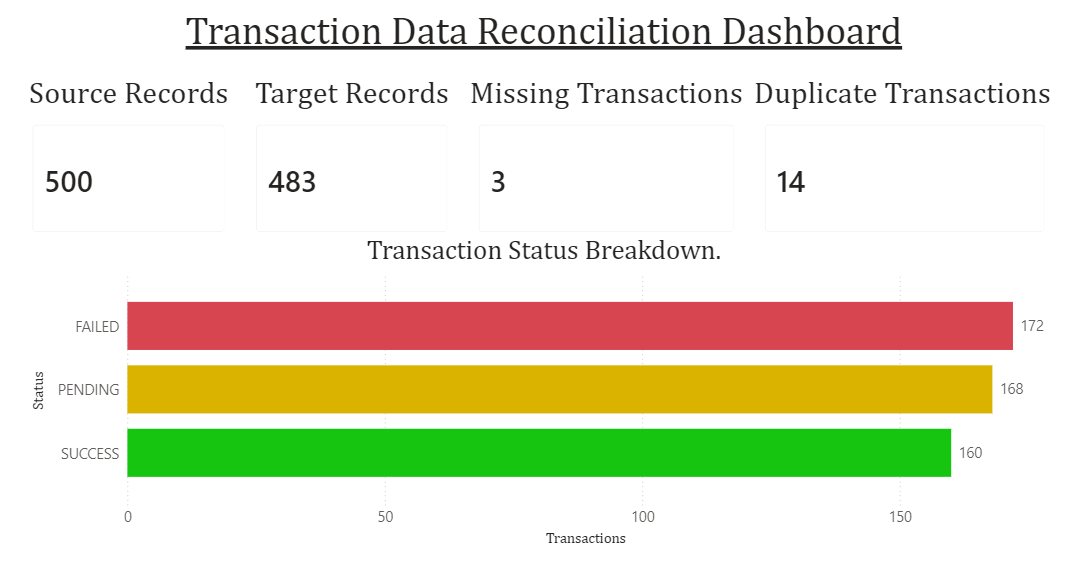

What the dashboard file says about the page in this screenshot:
{"tool":"powerbi","page":{"name":"Page 1","canvas":[1280,720],"ordinal":0},"visuals":[{"type":"cardVisual","title":"Source Records","fields":{"Data":["Count(source_transactions.transaction_id)"]},"box":[27.4,112.5,245.6,192.1],"z":0},{"type":"cardVisual","title":"Target Records","fields":{"Data":["Count(target_transactions.transaction_id)"]},"box":[273.1,112.5,244.3,192.1],"z":1},{"type":"cardVisual","title":"Missing Transactions","fields":{"Data":["source_transactions.Missing Records"]},"box":[517.3,112.5,314.2,192.1],"z":2},{"type":"cardVisual","title":"Duplicate Transactions","fields":{"Data":["source_transactions.Duplicate Records"]},"box":[831.6,112.5,341.7,192.1],"z":3},{"type":"clusteredBarChart","title":"Transaction Status Breakdown.","fields":{"Category":["source_transactions.status"],"Y":["CountNonNull(source_transactions.transaction_id)"]},"box":[38.4,288.2,1134.8,348.5],"z":4},{"type":"textbox","box":[38.4,34.3,1134.8,78.2],"z":5}]}

Visuals, with their boxes on the page's 1280x720 design canvas (x1, y1, x2, y2). These are canvas units, not pixel positions in the 1085x572 screenshot, which may show the page scaled, cropped or inside an application window:
"Source Records" cardVisual: region(27, 112, 273, 305)
"Target Records" cardVisual: region(273, 112, 517, 305)
"Missing Transactions" cardVisual: region(517, 112, 832, 305)
"Duplicate Transactions" cardVisual: region(832, 112, 1173, 305)
"Transaction Status Breakdown." clusteredBarChart: region(38, 288, 1173, 637)
textbox: region(38, 34, 1173, 112)
